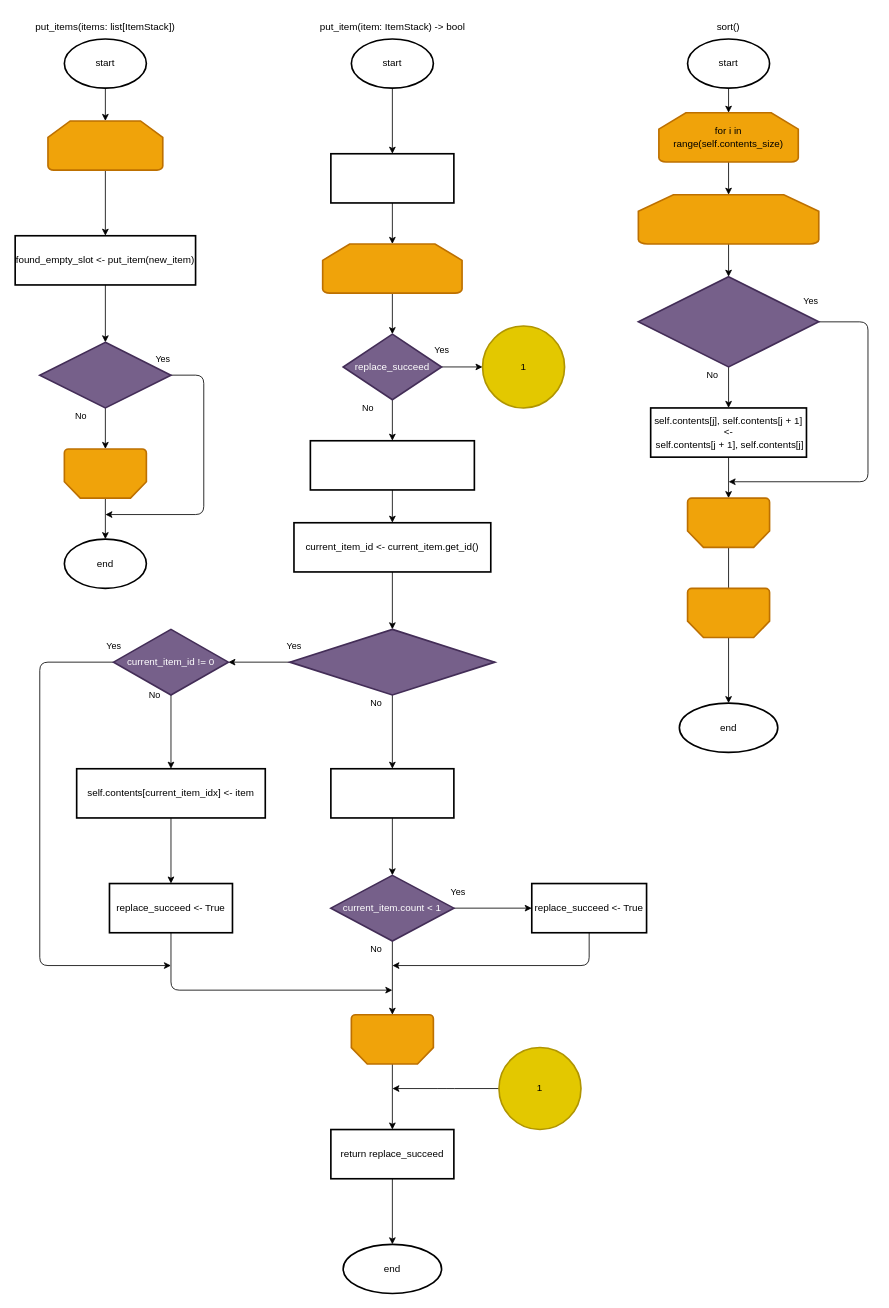
The diagram is 889 pixels wide and 1308 high, and some of its shapes have lost their labels. Each missing label, with the centre of its shape:
"current_item <- self.contents[current_item_idx]" belongs at point (392, 465).
"current_item.merge(item)" belongs at point (392, 793).
"current_item_id != item.get_id()" belongs at point (392, 661).
"for current_item_idx in range(self.contents_size)" belongs at point (391, 268).
"for j in range(self.contents_size - i - 1)" belongs at point (728, 219).
"for new_item in items" belongs at point (105, 145).
"not found_empty_slot" belongs at point (105, 374).
"replace_succeed <- False" belongs at point (392, 178).
"self.contents[j < self.contents[j + 1]" belongs at point (728, 321).
